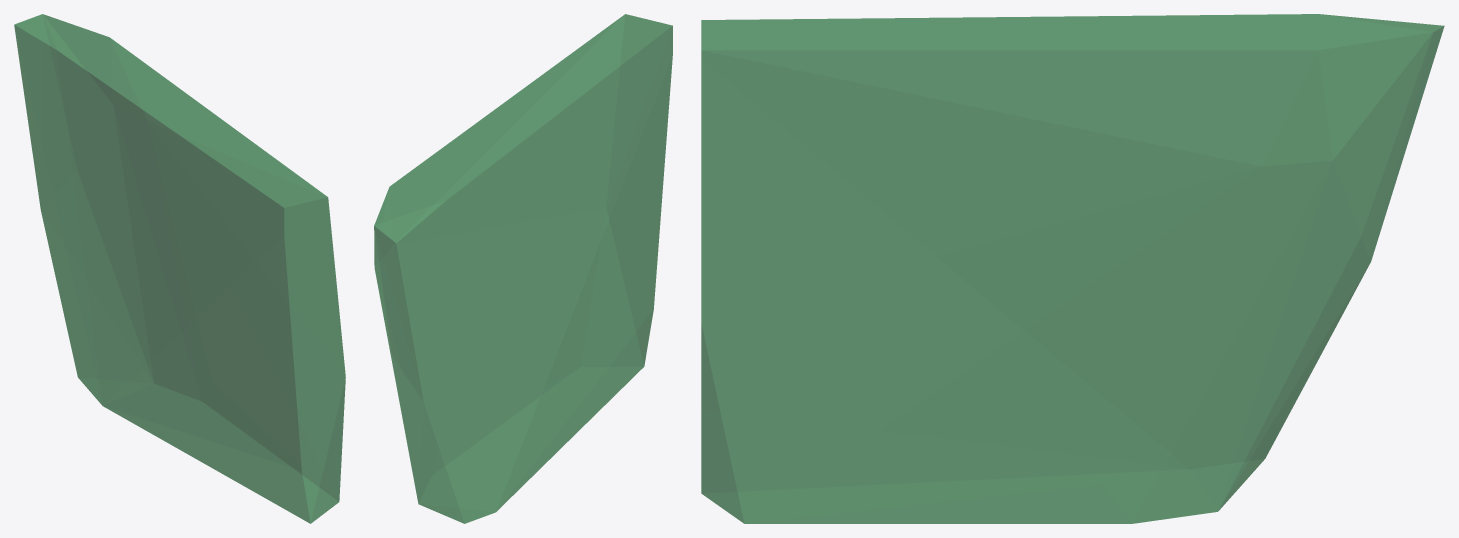
3 views of the same model, side by side, from view 1: azimuth 30°, elevation 25°; view 2: azimuth 150°, elevation 25°; view 3: azimuth 270°, elevation 25° (orthographic). The views are drawn at different scales.
Parts seen in each view (by area): view 1: Shape_IndexedFaceSet.008_Shape_IndexedFaceSet.4827; view 2: Shape_IndexedFaceSet.008_Shape_IndexedFaceSet.4827; view 3: Shape_IndexedFaceSet.008_Shape_IndexedFaceSet.4827.
Boxes of the visible parts, x1,y1,x2,y2 form: Shape_IndexedFaceSet.008_Shape_IndexedFaceSet.4827: (14,14,345,523); Shape_IndexedFaceSet.008_Shape_IndexedFaceSet.4827: (374,14,672,523); Shape_IndexedFaceSet.008_Shape_IndexedFaceSet.4827: (701,14,1444,523).
Size of the model in its own units: 0.0822 by 0.3194 by 0.4725.
